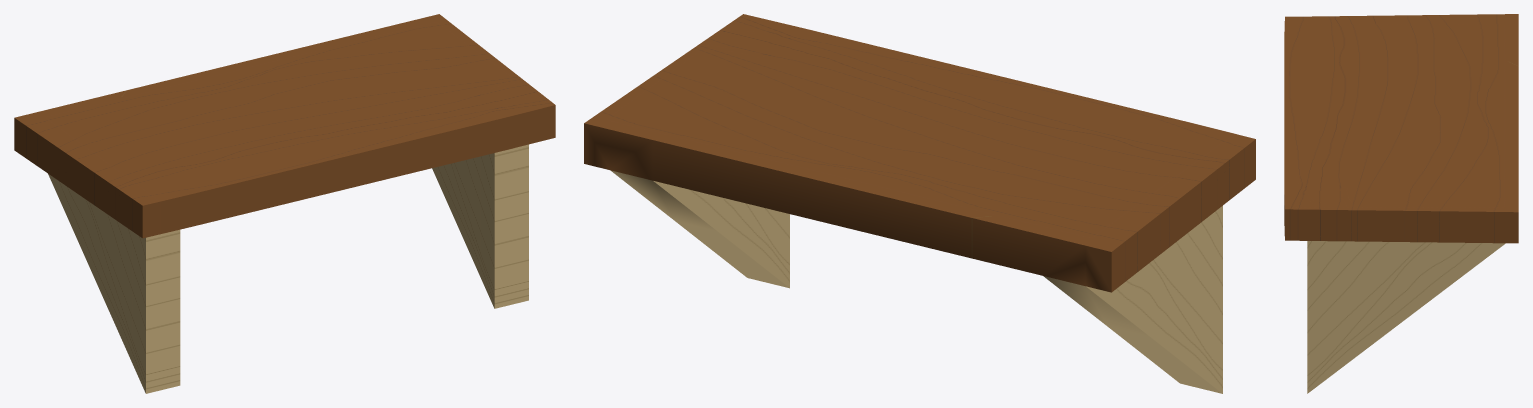
Rendered from step.fbx.
The picture shows the model from 3 angles, left to right: view 1: azimuth 30°, elevation 25°; view 2: azimuth 150°, elevation 25°; view 3: azimuth 270°, elevation 25°; orthographic projection. The views are drawn at different scales.
Visible parts, largest first — view 1: step; view 2: step; view 3: step.
Boxes of the visible parts, x1,y1,x2,y2 form: step: (14,14,555,393); step: (584,14,1255,393); step: (1284,14,1518,393).
Size of the model in its own units: 2.22 by 1 by 1.11.
1 material, 1 textured.
